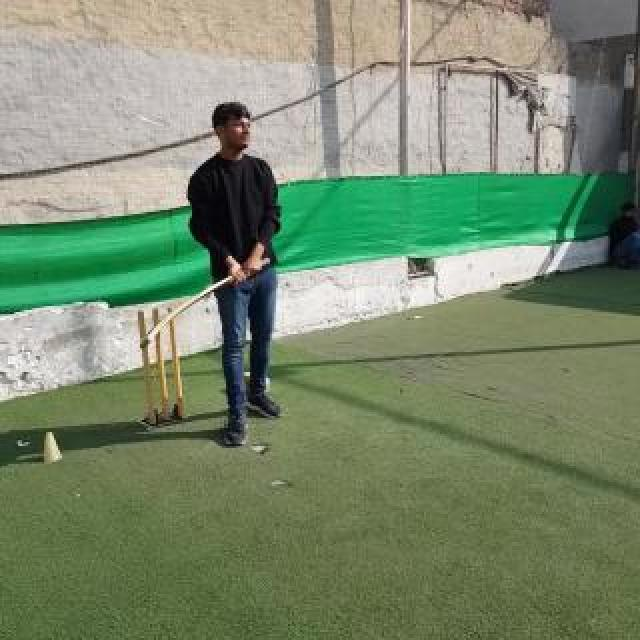bat: (138, 258, 270, 350)
